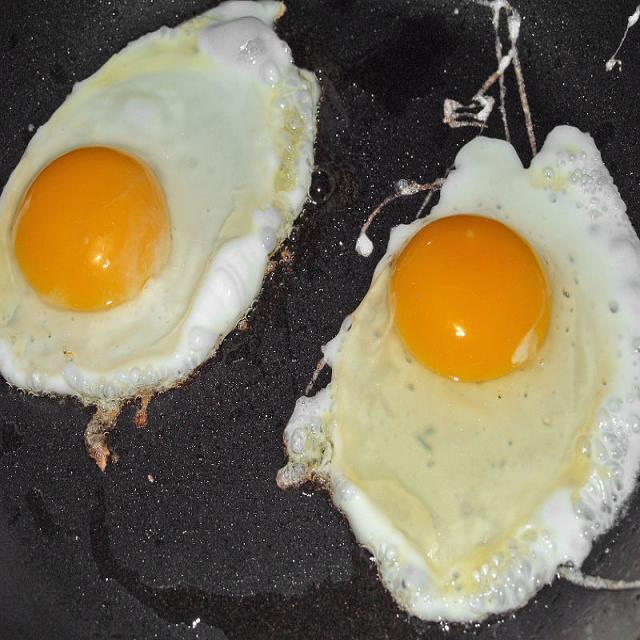Egg: (284, 126, 640, 616), (0, 0, 322, 396)
